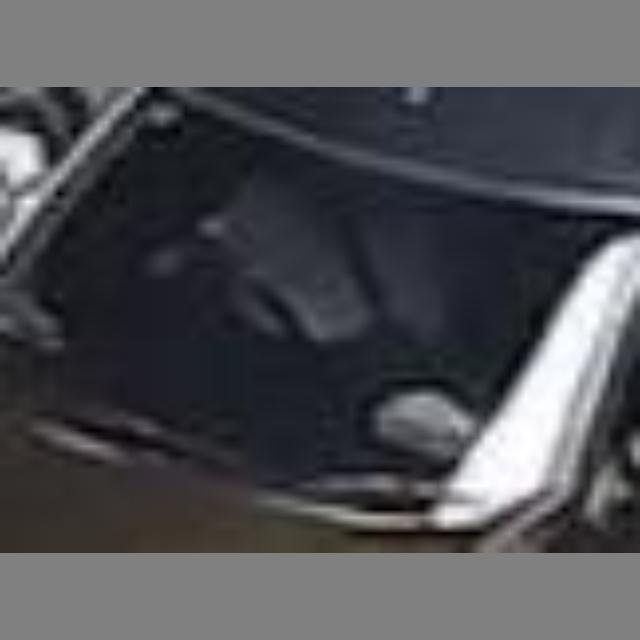pakai: (174, 150, 450, 435)
